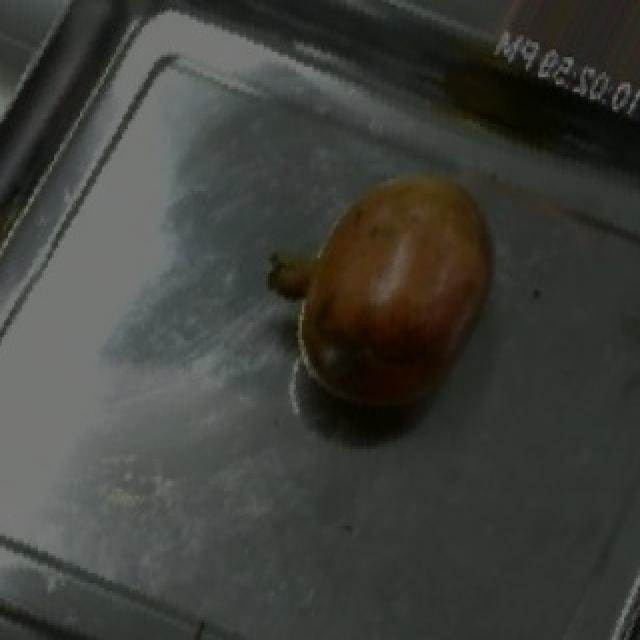fruit: (258, 142, 522, 410)
